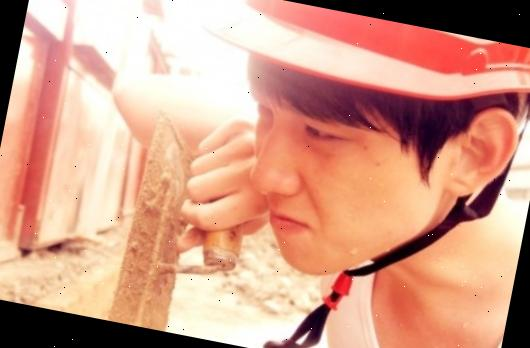helmet: (182, 0, 530, 123)
